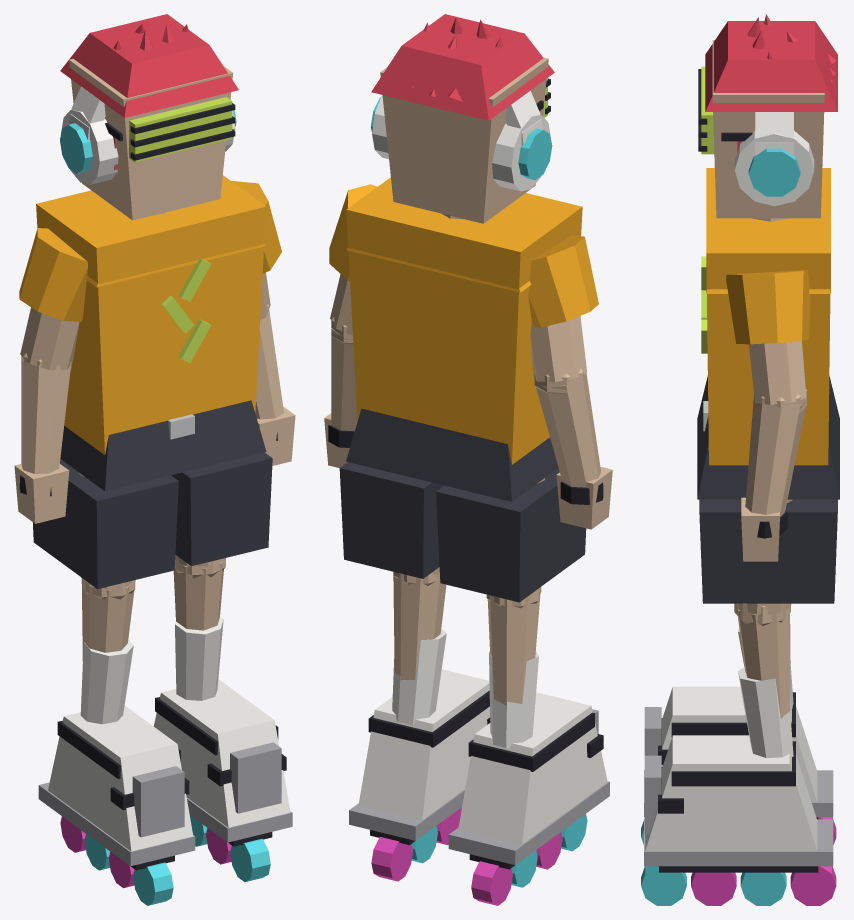
The model's file is skater.glb.
3 renders of one model, left to right at view 1: azimuth 30°, elevation 25°; view 2: azimuth 150°, elevation 25°; view 3: azimuth 270°, elevation 25°, orthographic. The views are drawn at different scales.
Visible parts, largest first — view 1: SKATER; view 2: SKATER; view 3: SKATER.
Part boxes in pixels (left/top/right/bottom): SKATER: left=14, top=14, right=295, bottom=905; SKATER: left=324, top=14, right=612, bottom=905; SKATER: left=641, top=14, right=839, bottom=905.
Bounding box in the file's own units: 0.632 × 1.89 × 0.399.
